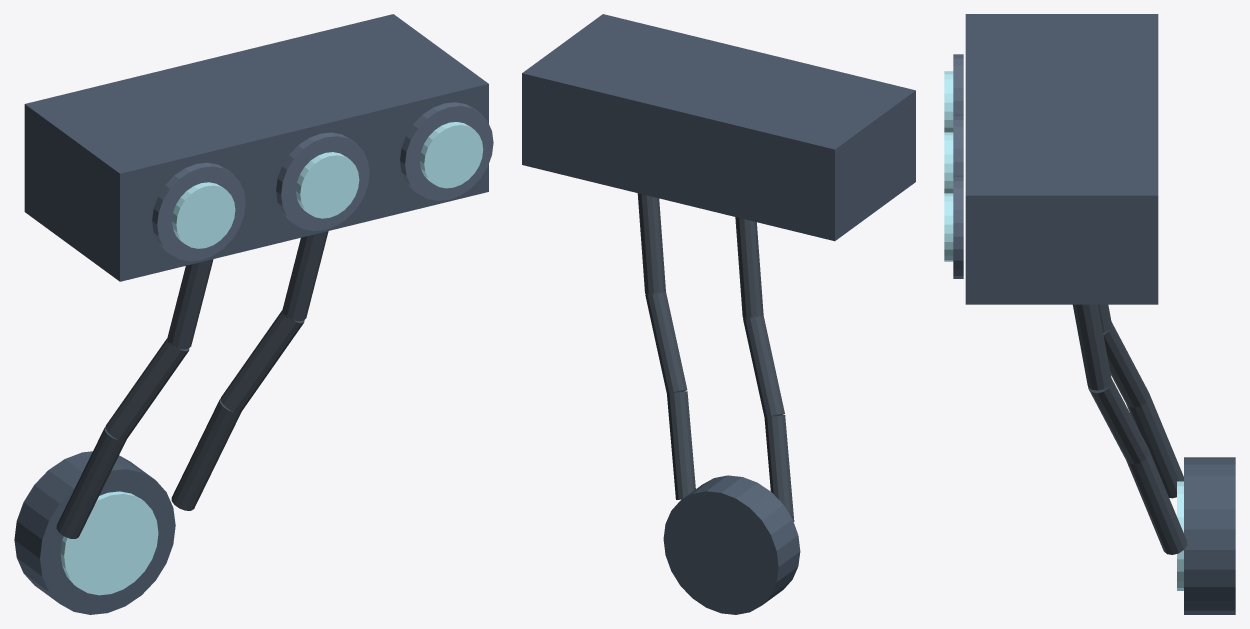
The model's file is cooler-aio.glb.
3 renders of one model, left to right at view 1: azimuth 30°, elevation 25°; view 2: azimuth 150°, elevation 25°; view 3: azimuth 270°, elevation 25°, orthographic. The views are drawn at different scales.
Visible parts, largest first — view 1: radiator_body_3, waterpump_1, rgb_waterpump_2, radiator_fan_26, radiator_fan_30, radiator_fan_28, radiator_fan_hub_27, radiator_fan_hub_31, radiator_fan_hub_29, liquid_tube_23, liquid_tube_20, liquid_tube_21 (+3 smaller); view 2: radiator_body_3, waterpump_1, liquid_tube_23, liquid_tube_21, liquid_tube_24, liquid_tube_22, liquid_tube_25, liquid_tube_20; view 3: radiator_body_3, waterpump_1, liquid_tube_23, liquid_tube_25, liquid_tube_20, liquid_tube_24, liquid_tube_21, radiator_fan_30, radiator_fan_hub_31, radiator_fan_26, radiator_fan_28, radiator_fan_hub_27 (+2 smaller).
Part boxes in pixels (x1=…): radiator_body_3: x1=24, y1=14, x2=488, y2=281; waterpump_1: x1=14, y1=451, x2=175, y2=614; rgb_waterpump_2: x1=60, y1=491, x2=158, y2=595; radiator_fan_26: x1=152, y1=162, x2=245, y2=261; radiator_fan_30: x1=400, y1=102, x2=493, y2=200; radiator_fan_28: x1=276, y1=132, x2=369, y2=231; radiator_fan_hub_27: x1=172, y1=182, x2=235, y2=248; radiator_fan_hub_31: x1=420, y1=122, x2=483, y2=188; radiator_fan_hub_29: x1=296, y1=152, x2=359, y2=218; liquid_tube_23: x1=171, y1=399, x2=241, y2=510; liquid_tube_20: x1=56, y1=427, x2=126, y2=538; liquid_tube_21: x1=105, y1=338, x2=189, y2=441; radiator_body_3: x1=522, y1=14, x2=915, y2=241; waterpump_1: x1=663, y1=475, x2=800, y2=614; liquid_tube_23: x1=667, y1=391, x2=695, y2=499; liquid_tube_21: x1=743, y1=315, x2=784, y2=417; liquid_tube_24: x1=645, y1=291, x2=687, y2=393; liquid_tube_22: x1=735, y1=217, x2=763, y2=318; liquid_tube_25: x1=637, y1=193, x2=665, y2=294; liquid_tube_20: x1=764, y1=415, x2=794, y2=521; radiator_body_3: x1=965, y1=14, x2=1158, y2=304; waterpump_1: x1=1184, y1=457, x2=1235, y2=614; liquid_tube_23: x1=1126, y1=450, x2=1187, y2=554; liquid_tube_25: x1=1073, y1=304, x2=1112, y2=390; liquid_tube_20: x1=1126, y1=393, x2=1183, y2=498; liquid_tube_24: x1=1088, y1=378, x2=1149, y2=464; liquid_tube_21: x1=1103, y1=322, x2=1149, y2=407; radiator_fan_30: x1=953, y1=176, x2=963, y2=278; radiator_fan_hub_31: x1=944, y1=193, x2=953, y2=261; radiator_fan_26: x1=953, y1=54, x2=963, y2=115; radiator_fan_28: x1=953, y1=115, x2=963, y2=176; radiator_fan_hub_27: x1=944, y1=71, x2=953, y2=132.
Bounding box in the file's own units: 1.25 × 1.76 × 0.847.
